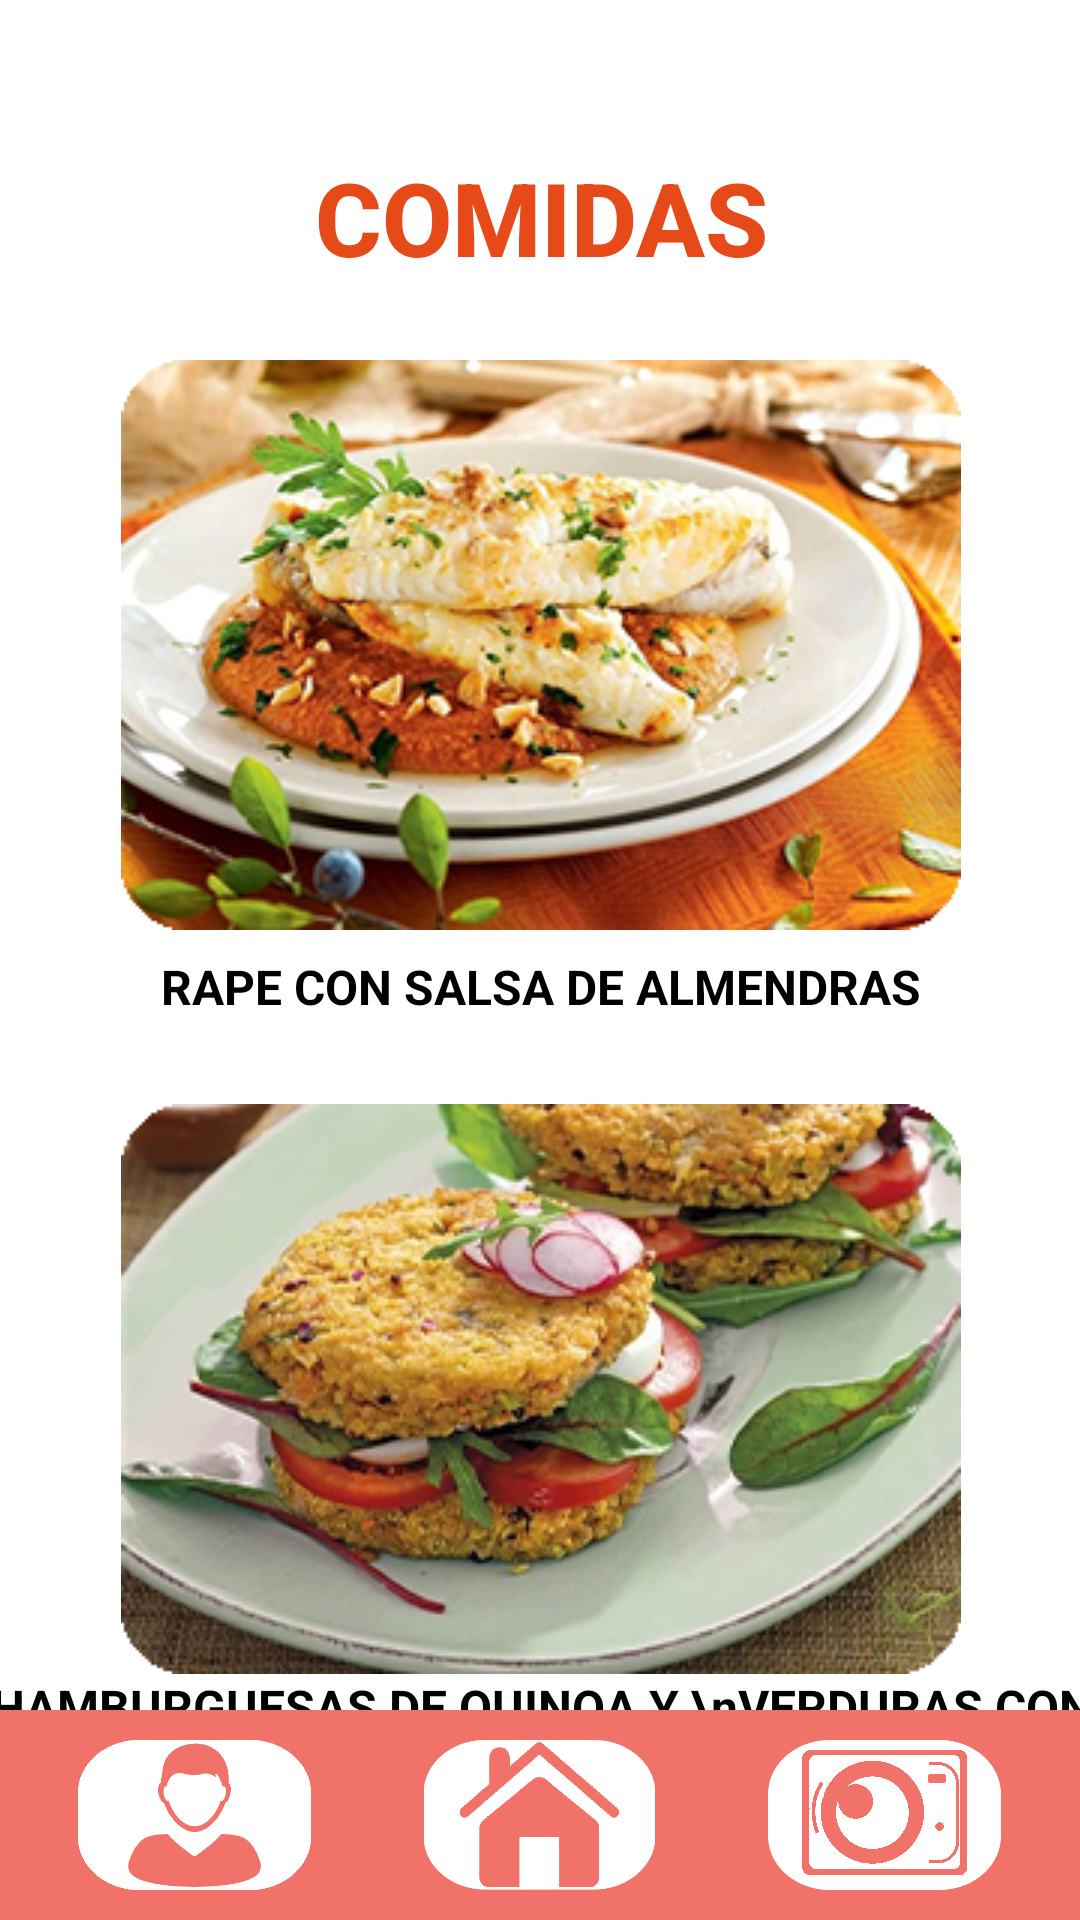

Icon bounding boxes for this 1080px×1920px phone screenshot, format (x1, y1, x2, y2):
cam off: (768, 1740, 1001, 1890)
casa on: (424, 1740, 655, 1890)
user on: (78, 1740, 311, 1890)
